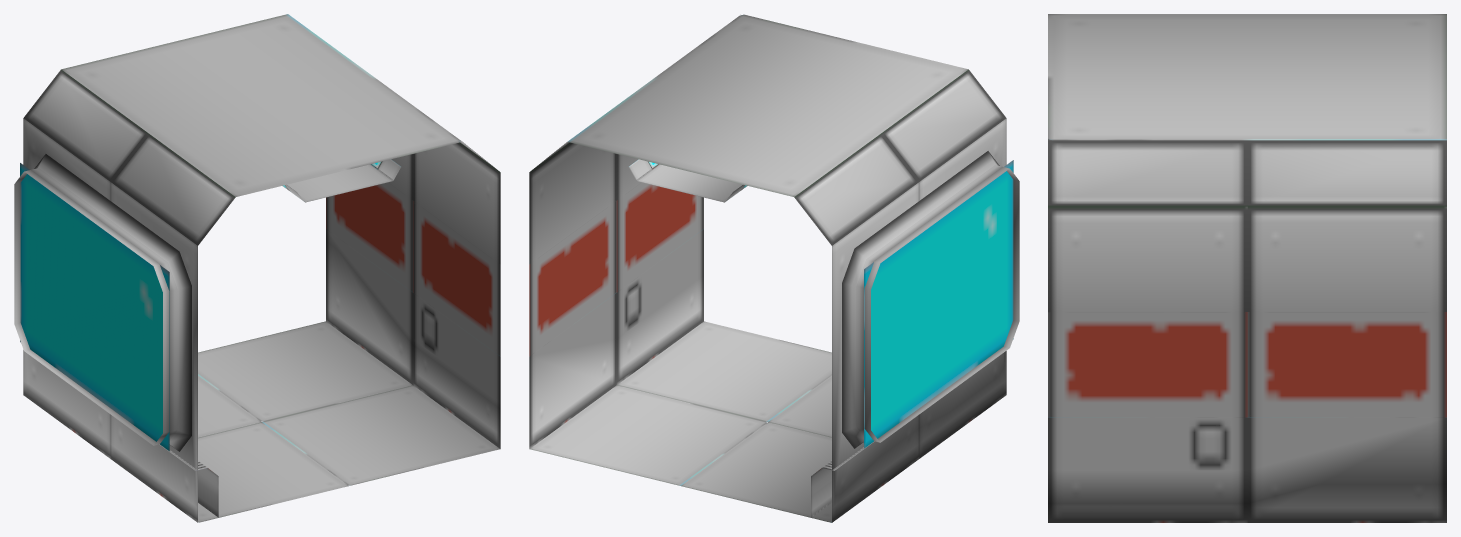
File: corr_win_2.fbx
3 views of the same model, side by side, from view 1: azimuth 30°, elevation 25°; view 2: azimuth 150°, elevation 25°; view 3: azimuth 270°, elevation 25° (orthographic). The views are drawn at different scales.
Parts seen in each view (by area): view 1: Cube_015; view 2: Cube_015; view 3: Cube_015.
Boxes of the visible parts, bbox=[...] form: Cube_015: bbox=[14, 14, 500, 522]; Cube_015: bbox=[529, 14, 1019, 522]; Cube_015: bbox=[1048, 14, 1446, 522].
Bounding box in the file's own units: 8.63 × 8 × 8.
